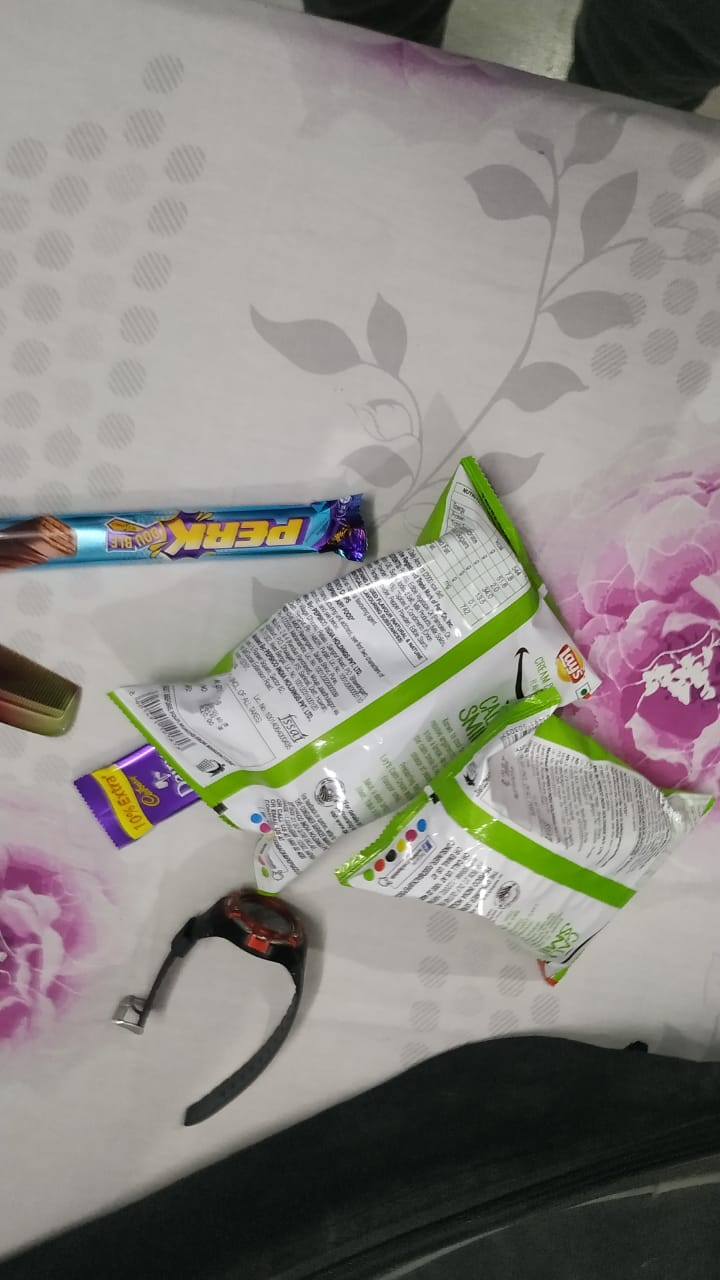lays chips: (82, 445, 599, 896), (350, 698, 720, 988)
perk: (1, 488, 374, 570)
